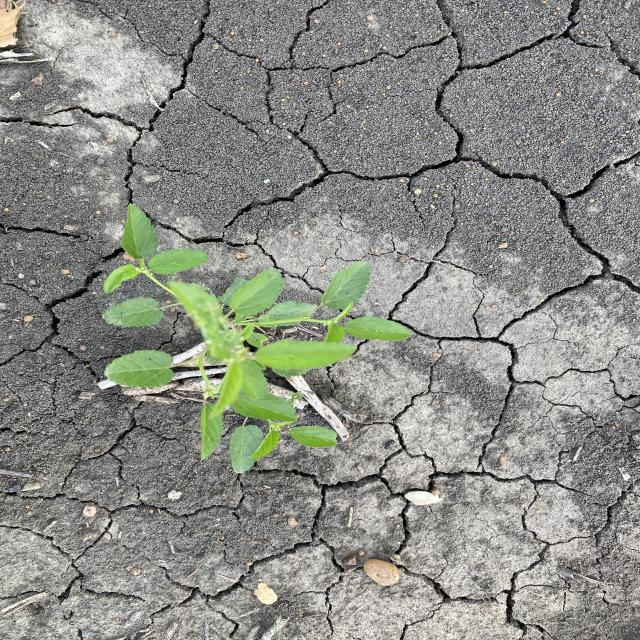PricklySida: (100, 202, 416, 474)
